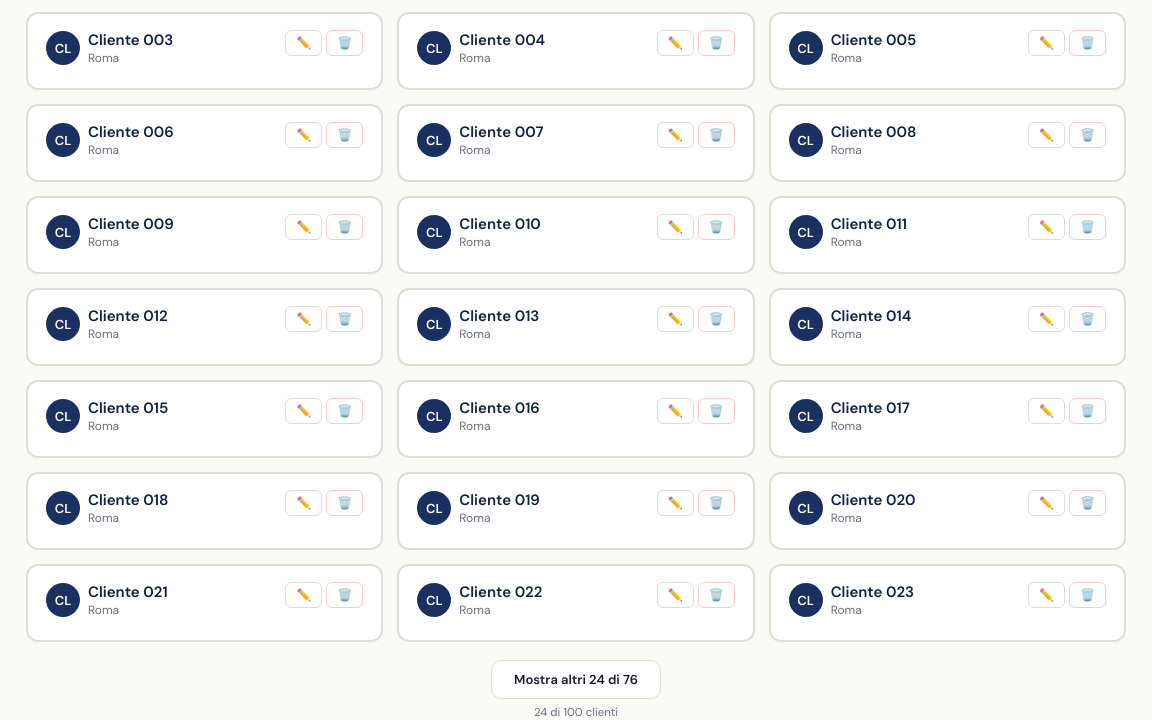
Scenario: ClientiView — finestra di paginazione (ST-9) › cambiare ordinamento riazzera la finestra
The image size is (1152, 720).
(page scrolled)
Click the button "Mostra altri 24 di 76" at [576, 680], box [491,660,661,699]
(page scrolled)
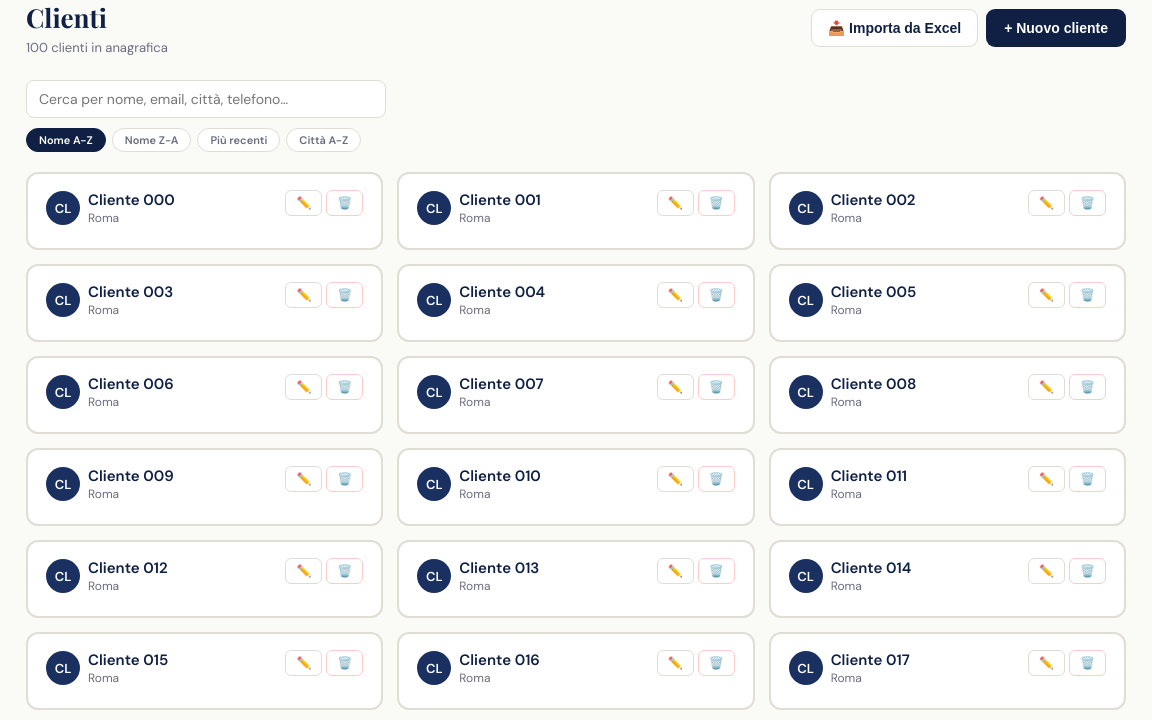
Click the button "Nome Z-A" at [152, 140], box [112,128,191,152]
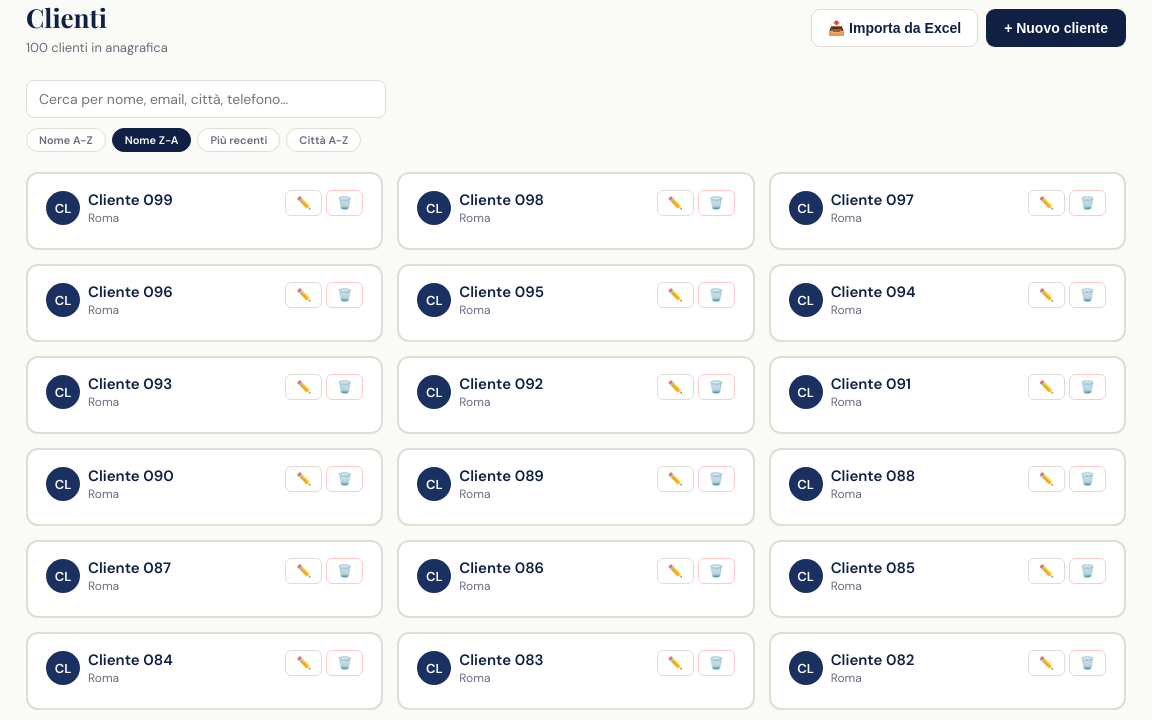
Now the text "Cliente 099" is shown, box [88,190,173,210]
